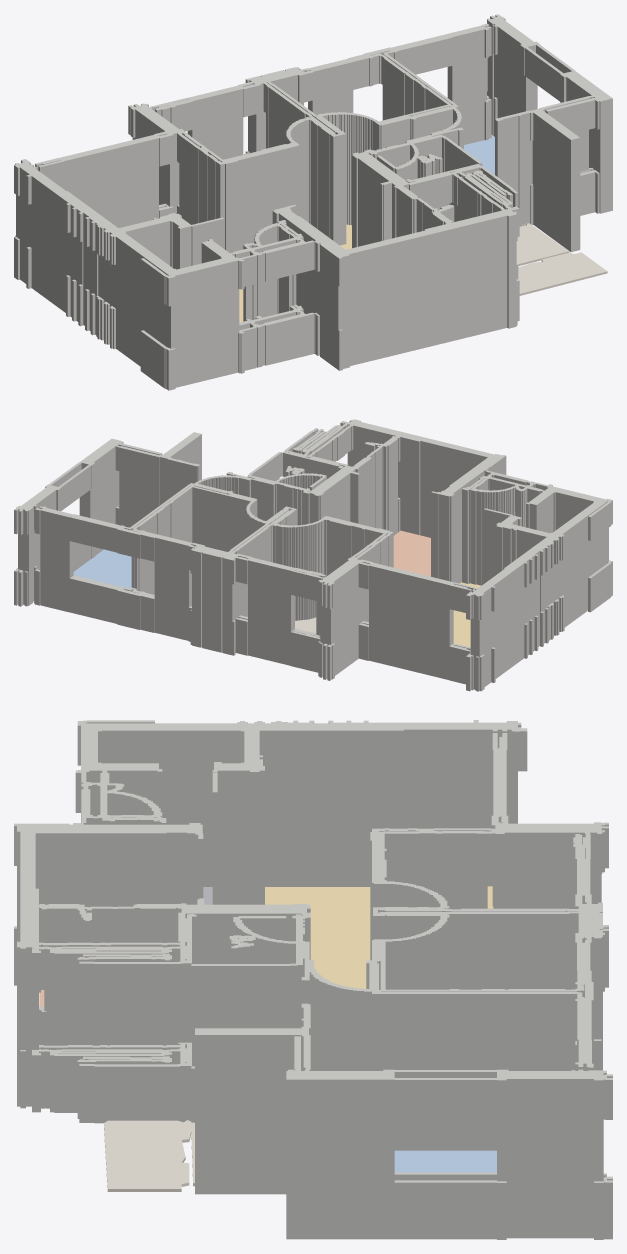
The picture shows the model from 3 angles, top to bottom: view 1: azimuth 30°, elevation 25°; view 2: azimuth 150°, elevation 25°; view 3: azimuth 270°, elevation 25°; orthographic projection. The views are drawn at different scales.
Visible parts, largest first — view 1: walls, room:other:7, room:bedroom:0; view 2: walls, room:bedroom:0, room:kitchen:4, room:living:1; view 3: walls, room:living:1, room:other:7, room:bedroom:0.
Part boxes in pixels (x1=…): walls: x1=14, y1=14, x2=612, y2=390; room:other:7: x1=516, y1=223, x2=607, y2=295; room:bedroom:0: x1=464, y1=135, x2=494, y2=174; walls: x1=14, y1=419, x2=612, y2=691; room:bedroom:0: x1=34, y1=549, x2=131, y2=603; room:kitchen:4: x1=393, y1=530, x2=430, y2=576; room:living:1: x1=453, y1=582, x2=481, y2=647; walls: x1=14, y1=720, x2=612, y2=1239; room:living:1: x1=265, y1=886, x2=493, y2=988; room:other:7: x1=104, y1=1120, x2=194, y2=1191; room:bedroom:0: x1=394, y1=1150, x2=496, y2=1172.
Bounding box in the file's own units: 13.57 × 2.8 × 9.53.
